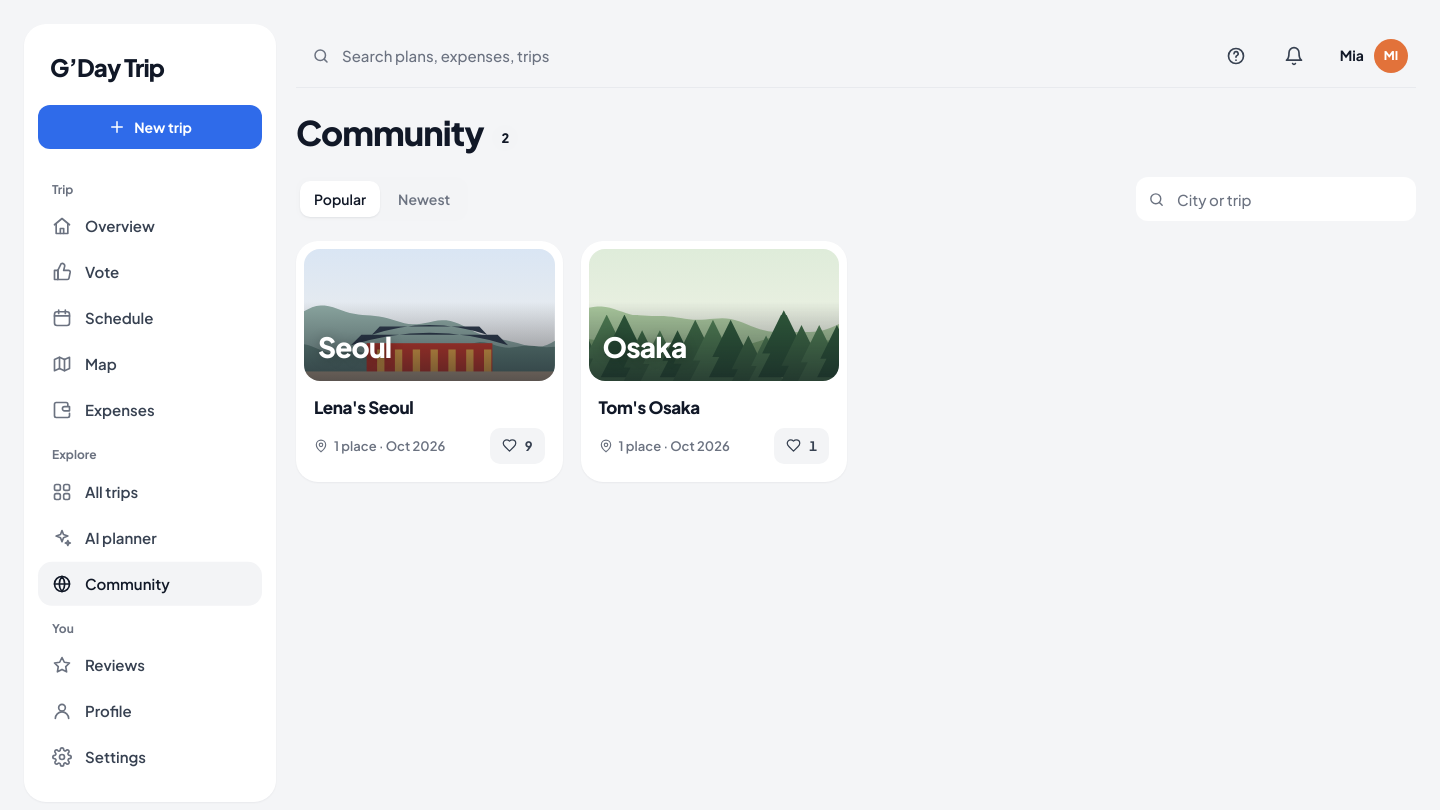
Community › search filters shared trips, and the sort toggles between popular and newest
Check: the navigation bar with id "auth" is shown, box left=38, top=562, right=262, bottom=606
Check: the heading "Tom's Osaka" is shown, box left=598, top=396, right=700, bottom=418
Click the button "Newest" at (424, 199), box left=384, top=181, right=464, bottom=217
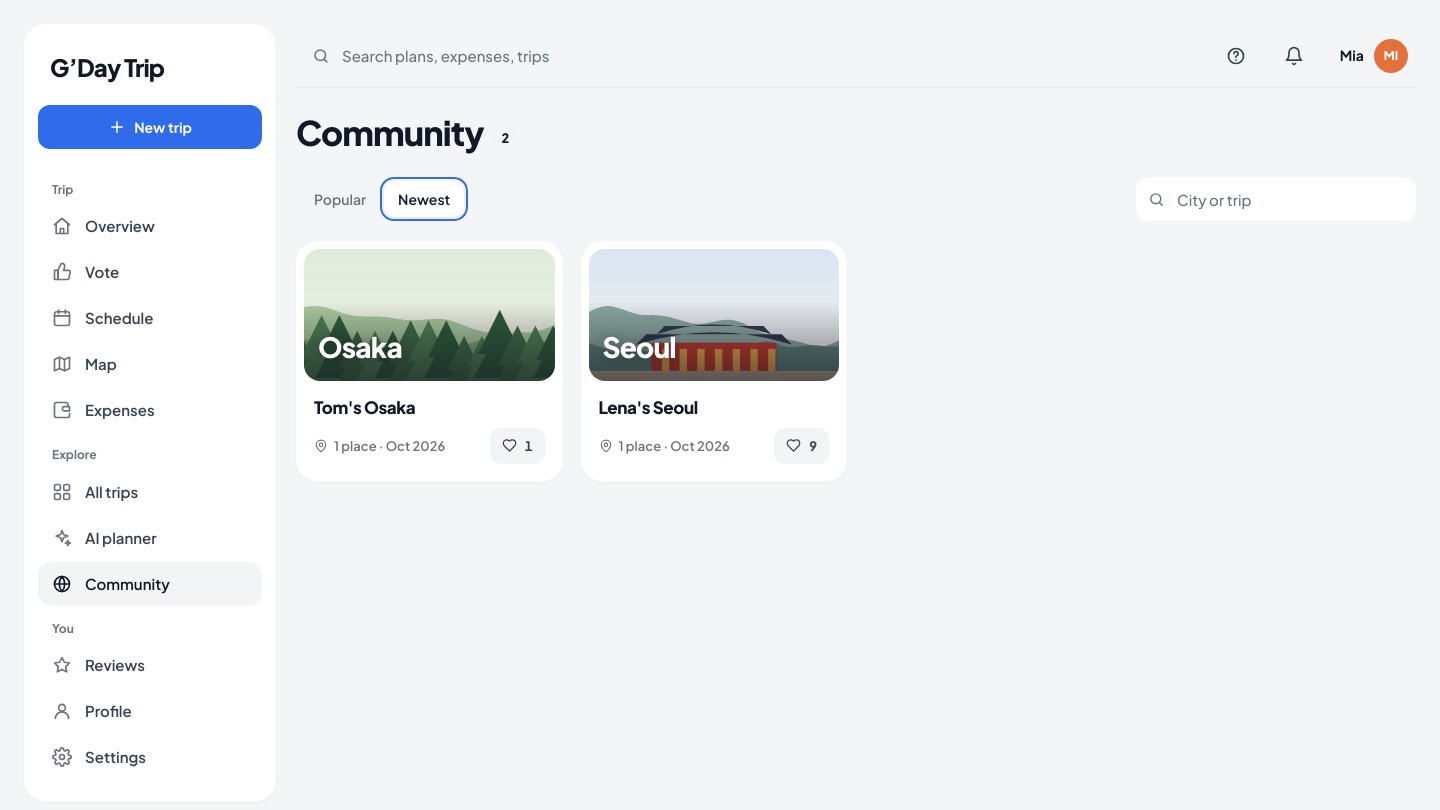
Check: the headings read "Tom's Osaka", "Lena's Seoul", in this order, box left=314, top=396, right=415, bottom=418; left=598, top=396, right=698, bottom=418
Type "seoul" into the search field with placeholder "City or trip" at (1290, 199), box left=1175, top=177, right=1404, bottom=221
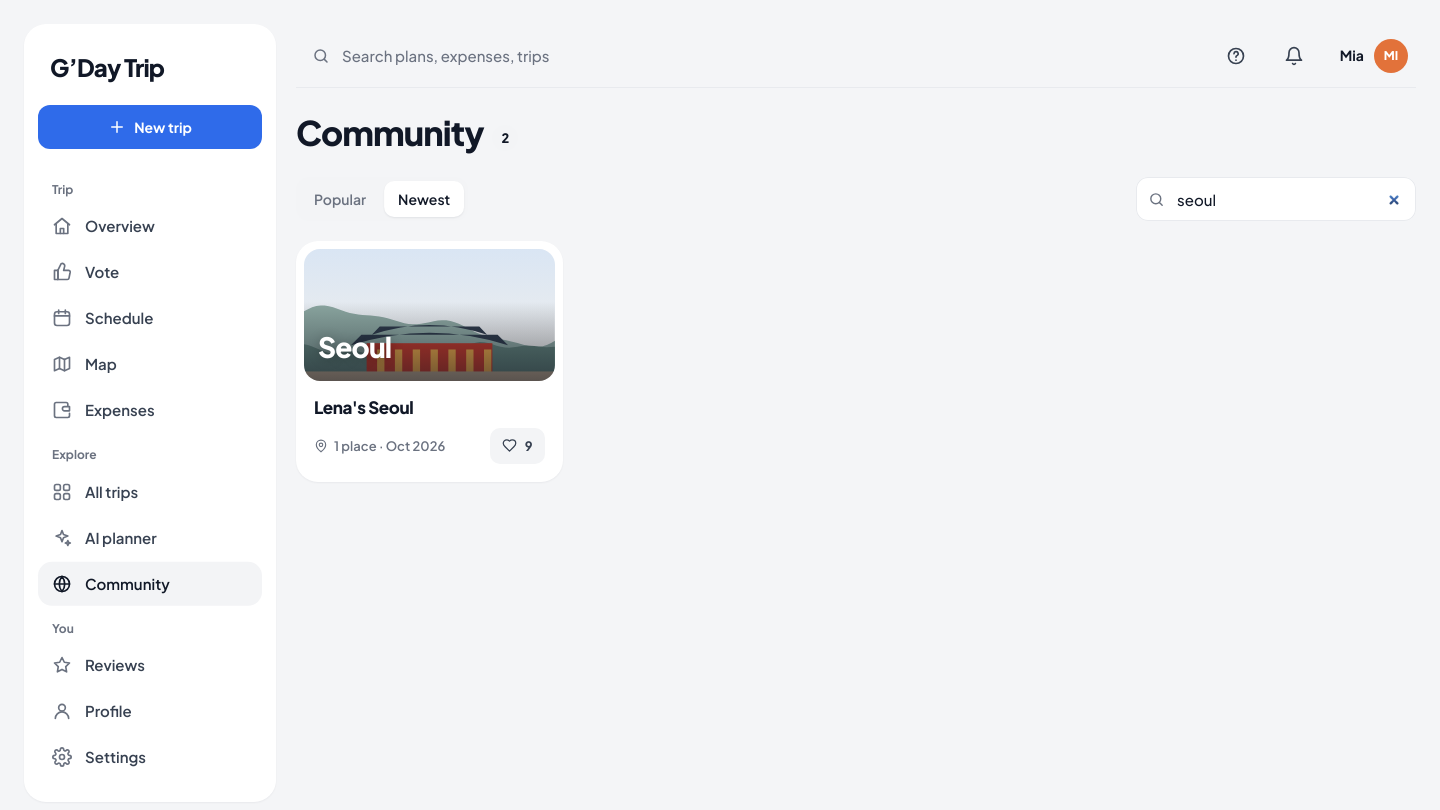
Check: the headings read "Lena's Seoul", in this order, box left=314, top=396, right=413, bottom=418
